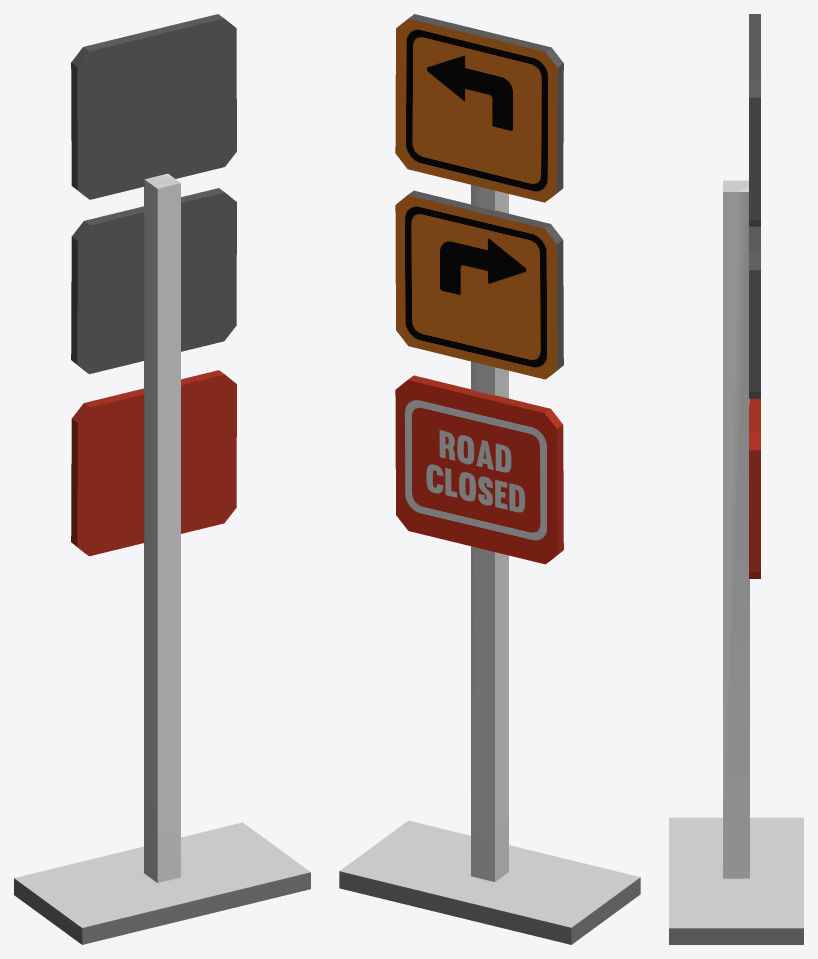
The model's file is signboard.fbx.
3 views of the same model, side by side, from view 1: azimuth 30°, elevation 25°; view 2: azimuth 150°, elevation 25°; view 3: azimuth 270°, elevation 25° (orthographic). The views are drawn at different scales.
Visible parts, largest first — view 1: SignBoard; view 2: SignBoard; view 3: SignBoard.
Boxes of the visible parts, box(x1,y1,x2,y2) form: SignBoard: box(14, 14, 310, 944); SignBoard: box(339, 14, 640, 944); SignBoard: box(669, 14, 803, 944).
Size of the model in its own units: 187 by 667 by 96.64.
1 material, 1 textured.
